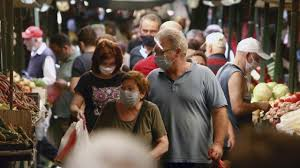mask: (120, 90, 138, 109), (154, 56, 175, 72), (245, 60, 261, 74), (99, 65, 117, 76), (142, 35, 157, 47)
